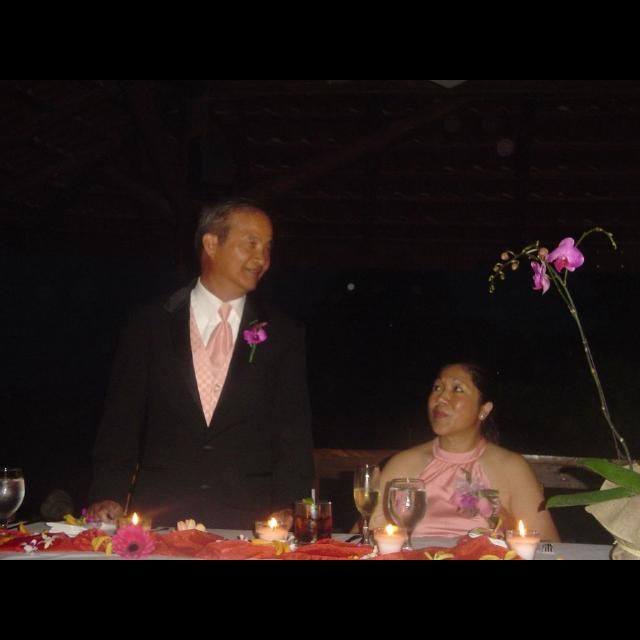Flower: (544, 236, 588, 276), (110, 522, 156, 558), (532, 259, 554, 295), (62, 512, 98, 530), (258, 540, 298, 556), (240, 324, 268, 344), (456, 476, 480, 494), (482, 549, 522, 559), (461, 496, 492, 508), (36, 530, 59, 546), (175, 520, 208, 530), (422, 549, 454, 559), (22, 537, 36, 555)
